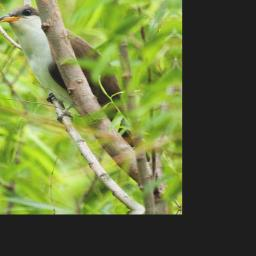Cuckoo: (0, 0, 161, 167)
